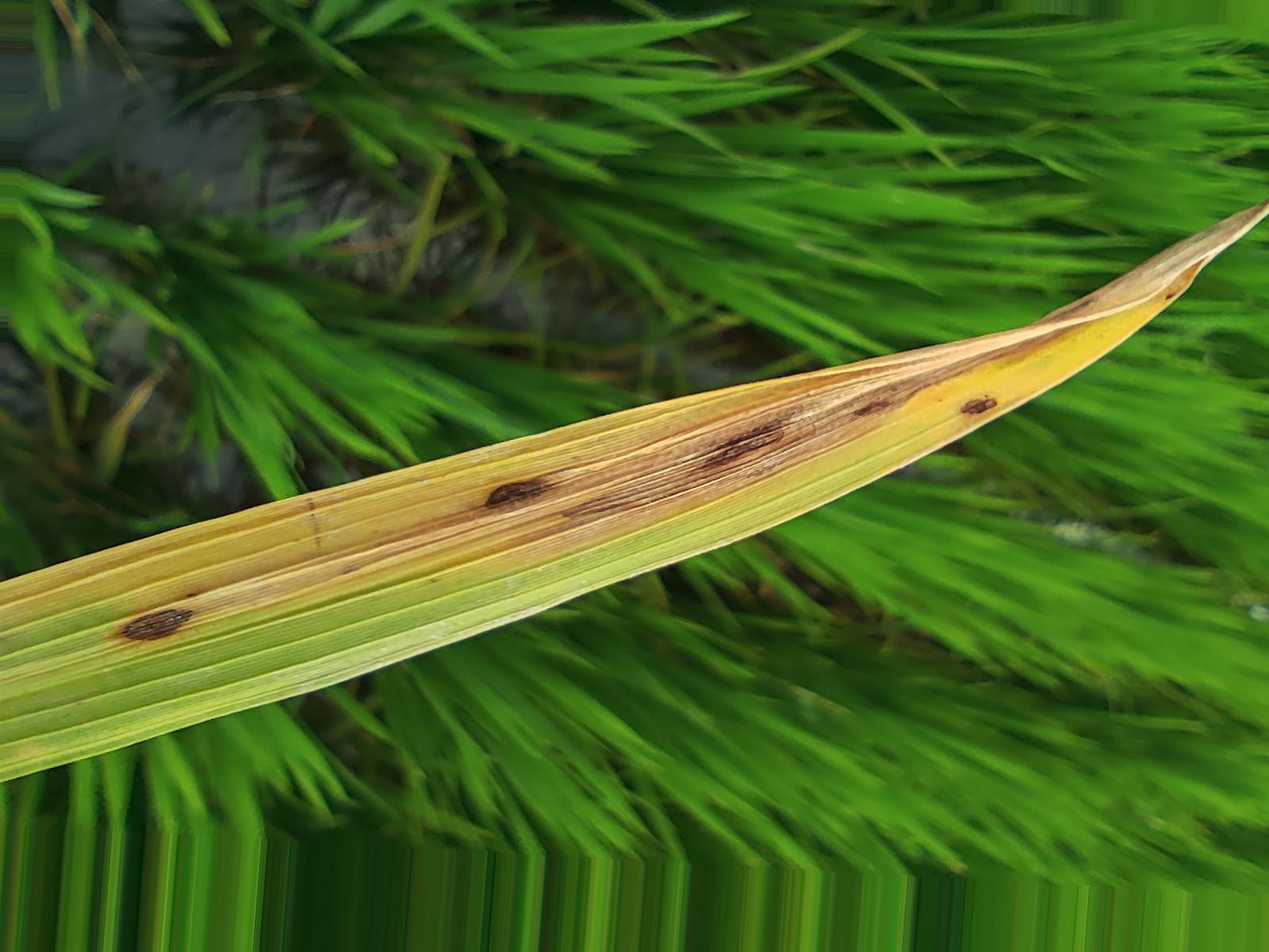LEAF: (0, 202, 1268, 779)
LEAF BLAST: (703, 421, 784, 466), (121, 608, 193, 639), (486, 480, 547, 510), (961, 397, 997, 414), (854, 401, 888, 416), (1165, 291, 1179, 299)
